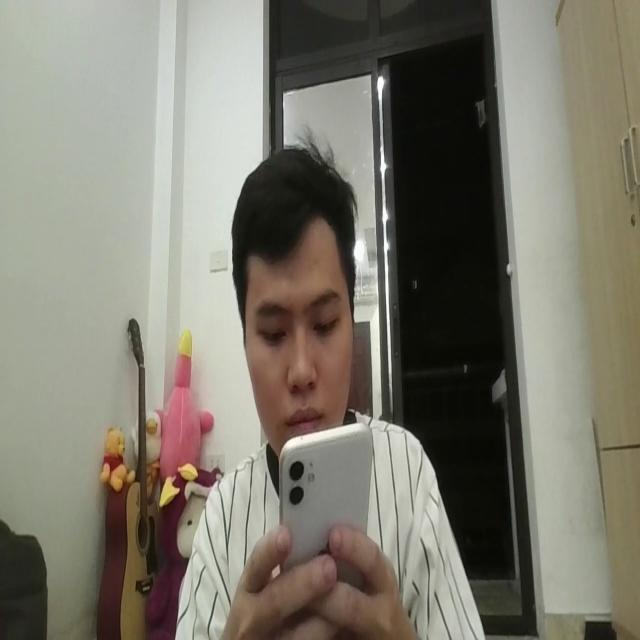phone: (276, 418, 371, 552)
student: (176, 139, 484, 640)
